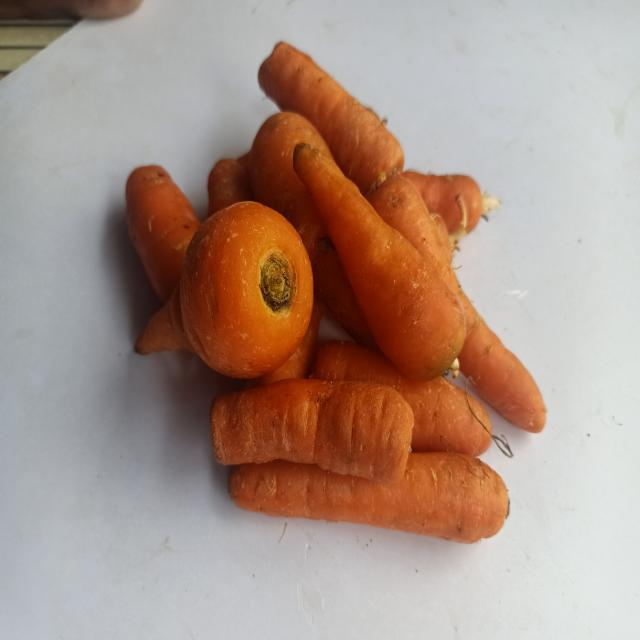Carrot: (0, 0, 640, 638), (293, 143, 466, 380), (228, 452, 510, 543), (179, 201, 313, 378), (258, 41, 404, 193), (210, 379, 414, 482)
